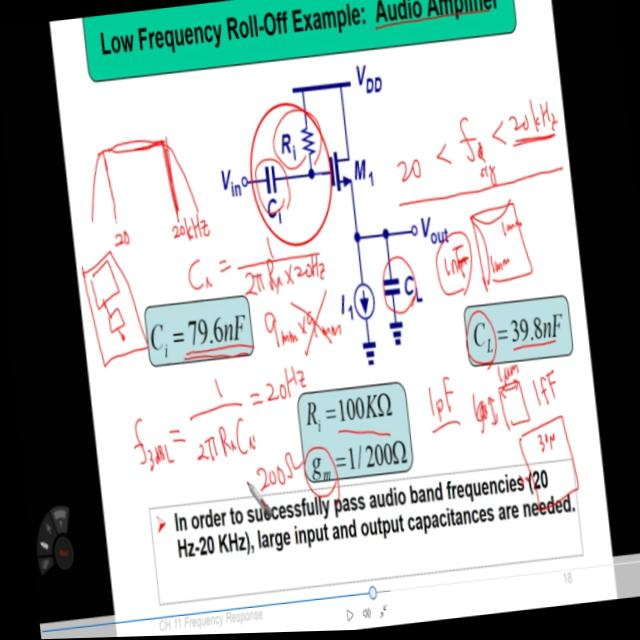panseo: (63, 102, 347, 384), (381, 95, 579, 315), (109, 358, 342, 522), (408, 350, 594, 548)
